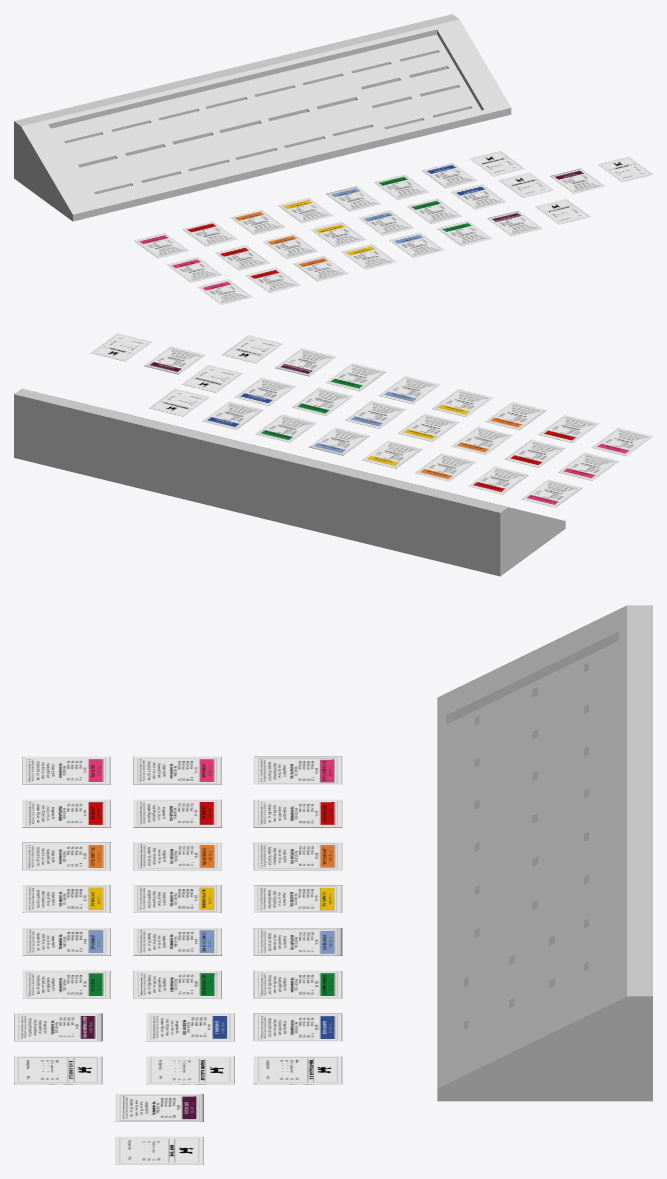
The model's file is Card.fbx.
The picture shows the model from 3 angles, top to bottom: view 1: azimuth 30°, elevation 25°; view 2: azimuth 150°, elevation 25°; view 3: azimuth 270°, elevation 25°; orthographic projection. The views are drawn at different scales.
Parts seen in each view (by area): view 1: CardHolder, Oriental, Connecticut, StCharles, StatesAve, MarvinGardens, KentuckyAve, B_ORail, ReadingRail, Mediterranean, Baltic, StJames (+15 smaller); view 2: CardHolder, PennAve, Baltic, StCharles, KentuckyAve, Vermont, MarvinGardens, IndianaAve, B_ORail, Mediterranean, Oriental, StatesAve (+15 smaller); view 3: CardHolder, StCharles, KentuckyAve, NYCave, PennAve, ParkPlace, PennRail, Mediterranean, StatesAve, VirginiaAve, StJames, IndianaAve (+15 smaller).
Part boxes in pixels (x1=…): CardHolder: x1=14, y1=14, x2=511, y2=221; Oriental: x1=326, y1=186, x2=380, y2=211; Connecticut: x1=359, y1=210, x2=413, y2=235; StCharles: x1=134, y1=233, x2=188, y2=258; StatesAve: x1=197, y1=279, x2=252, y2=304; MarvinGardens: x1=311, y1=222, x2=365, y2=247; KentuckyAve: x1=182, y1=221, x2=236, y2=246; B_ORail: x1=535, y1=199, x2=590, y2=224; ReadingRail: x1=499, y1=172, x2=553, y2=197; Mediterranean: x1=487, y1=211, x2=542, y2=236; Baltic: x1=550, y1=168, x2=604, y2=193; StJames: x1=293, y1=256, x2=348, y2=281; CardHolder: x1=14, y1=388, x2=565, y2=576; PennAve: x1=255, y1=414, x2=316, y2=442; Baltic: x1=144, y1=346, x2=204, y2=374; StCharles: x1=521, y1=479, x2=582, y2=507; KentuckyAve: x1=468, y1=466, x2=528, y2=494; Vermont: x1=379, y1=376, x2=439, y2=404; MarvinGardens: x1=398, y1=413, x2=459, y2=441; IndianaAve: x1=538, y1=415, x2=599, y2=443; B_ORail: x1=222, y1=335, x2=282, y2=363; Mediterranean: x1=275, y1=348, x2=335, y2=376; Oriental: x1=309, y1=427, x2=369, y2=455; StatesAve: x1=591, y1=428, x2=652, y2=455; CardHolder: x1=437, y1=605, x2=652, y2=1101; StCharles: x1=253, y1=756, x2=342, y2=784; KentuckyAve: x1=253, y1=799, x2=342, y2=827; NYCave: x1=253, y1=842, x2=342, y2=870; PennAve: x1=253, y1=970, x2=342, y2=998; ParkPlace: x1=253, y1=1013, x2=342, y2=1041; PennRail: x1=253, y1=1056, x2=342, y2=1084; Mediterranean: x1=14, y1=1013, x2=102, y2=1041; StatesAve: x1=22, y1=756, x2=110, y2=784; VirginiaAve: x1=133, y1=756, x2=221, y2=784; StJames: x1=22, y1=842, x2=110, y2=870; IndianaAve: x1=22, y1=799, x2=110, y2=827.
Bounding box in the file's own units: 1795 × 230 × 1105.
